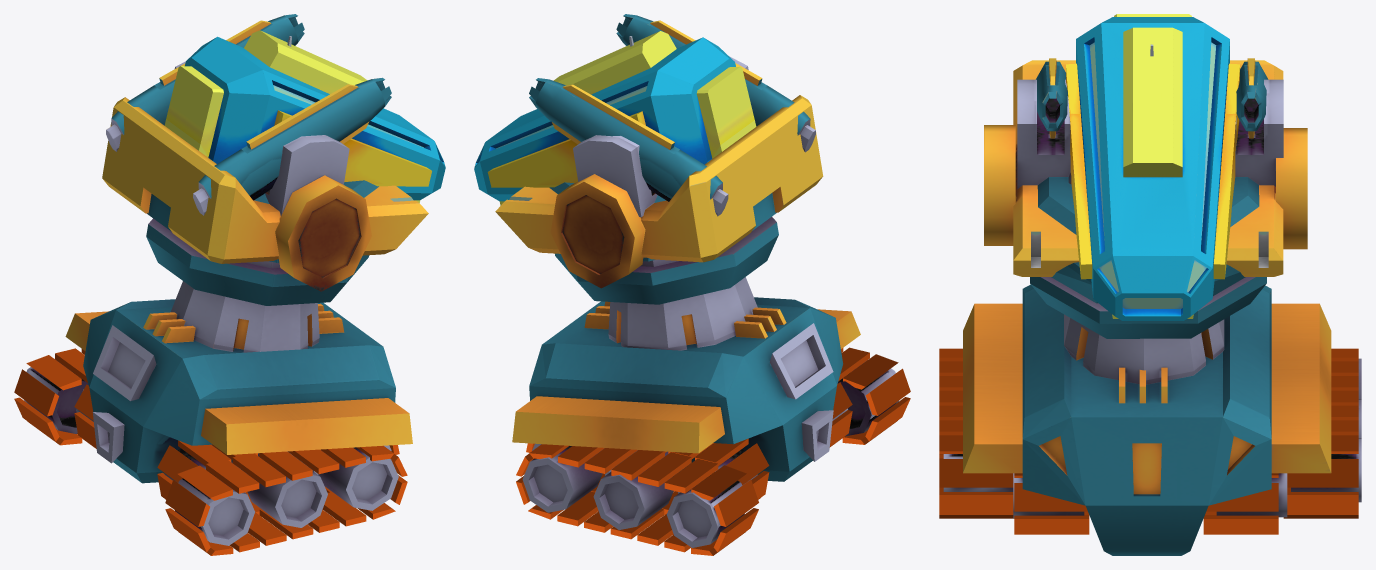
File: Player_move_2_Upgrade18.obj
3 renders of one model, left to right at view 1: azimuth 30°, elevation 25°; view 2: azimuth 150°, elevation 25°; view 3: azimuth 270°, elevation 25°, orthographic. The views are drawn at different scales.
Visible parts, largest first — view 1: Object015, Box020, Object014, Box018, Box019, Box017, Box016; view 2: Object015, Box019, Object014, Box018, Box020, Box016, Box017; view 3: Object015, Box019, Box020, Object014, Box017, Box016, Box018, Box009.
Boxes of the visible parts, x1=… form: Object015: x1=65, y1=30, x2=445, y2=483; Box020: x1=165, y1=445, x2=407, y2=555; Object014: x1=106, y1=14, x2=391, y2=215; Box018: x1=24, y1=362, x2=398, y2=545; Box019: x1=14, y1=348, x2=87, y2=445; Box017: x1=157, y1=440, x2=399, y2=515; Box016: x1=74, y1=384, x2=96, y2=448; Object015: x1=474, y1=31, x2=860, y2=481; Box019: x1=516, y1=444, x2=758, y2=555; Object014: x1=529, y1=14, x2=815, y2=216; Box018: x1=522, y1=361, x2=899, y2=547; Box020: x1=838, y1=347, x2=910, y2=444; Box016: x1=526, y1=438, x2=769, y2=514; Box017: x1=829, y1=382, x2=852, y2=447; Object015: x1=963, y1=14, x2=1331, y2=555; Box019: x1=1283, y1=348, x2=1358, y2=518; Box020: x1=939, y1=348, x2=1014, y2=518; Object014: x1=1036, y1=58, x2=1268, y2=138; Box017: x1=1014, y1=473, x2=1089, y2=534; Box016: x1=1203, y1=473, x2=1278, y2=534; Box018: x1=943, y1=358, x2=1361, y2=502; Box009: x1=1013, y1=473, x2=1287, y2=517.
Bounding box in the file's own units: 70.38 × 88.9 × 68.55.
6 materials, 4 textured.
